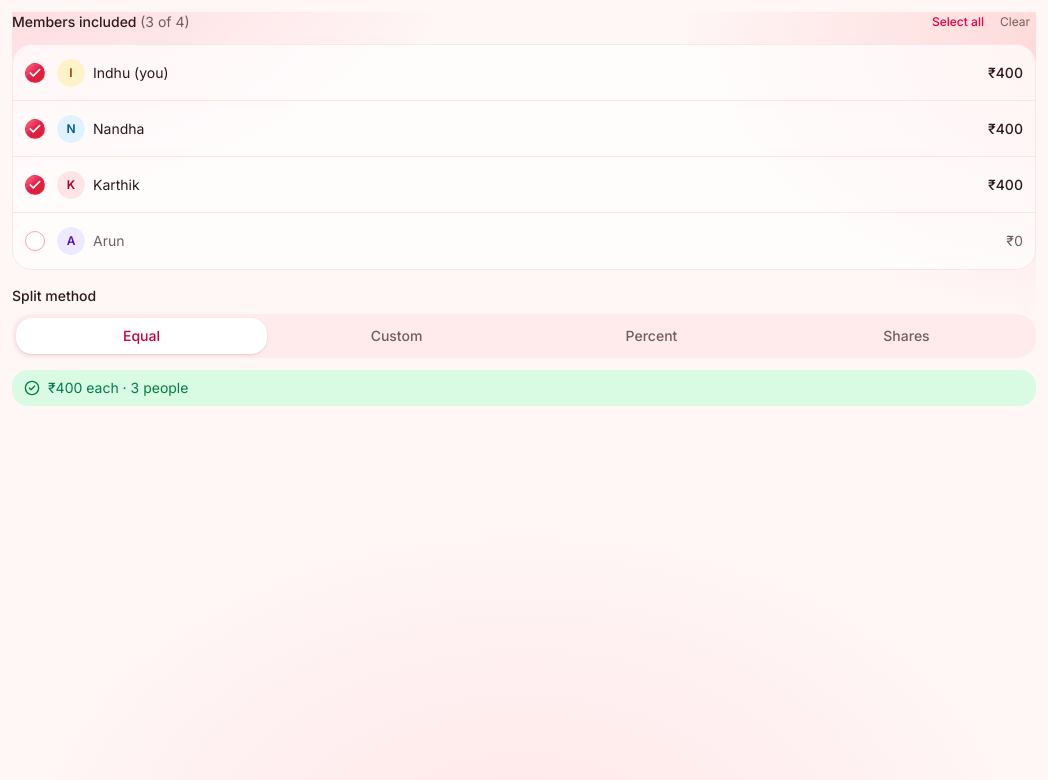
Test: SplitEditor › including someone re-splits the amount
Click the checkbox named "Arun" in the row of "Arun": {"x": 35, "y": 241} [25,231,45,251]
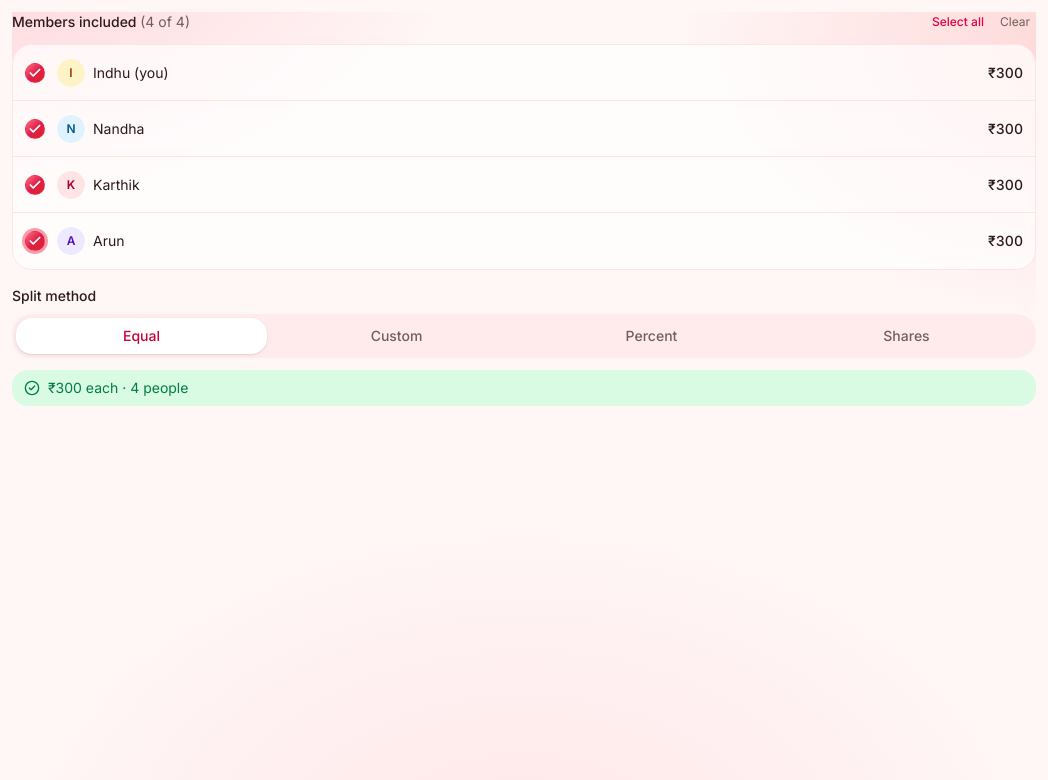
Expected: the text "₹300 each · 4 people" is shown, [48,378,188,398]
